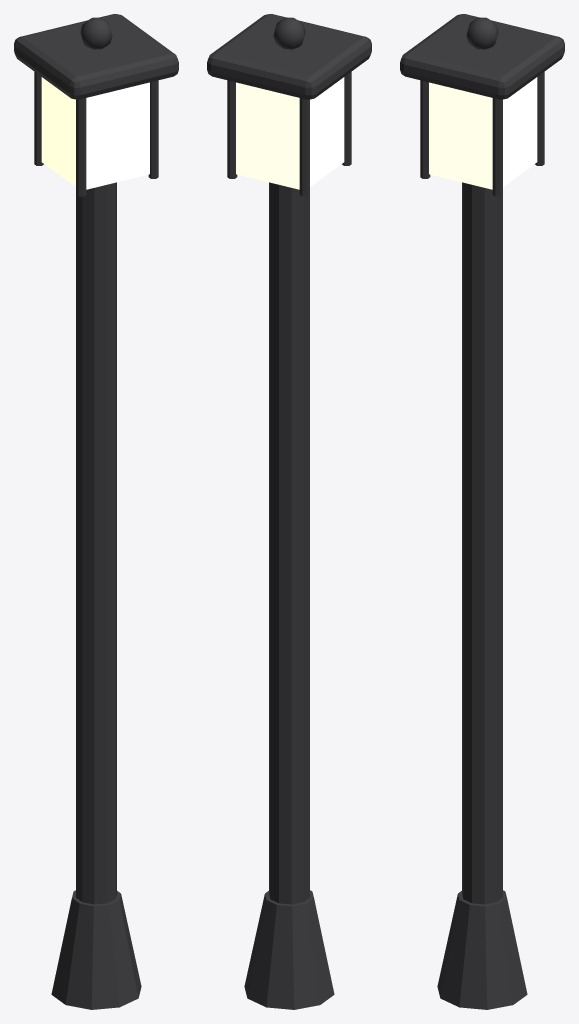
Rendered from LanternPost.glb.
3 renders of one model, left to right at view 1: azimuth 30°, elevation 25°; view 2: azimuth 150°, elevation 25°; view 3: azimuth 330°, elevation 25°, orthographic.
Visible parts, largest first — view 1: LanternPost; view 2: LanternPost; view 3: LanternPost.
Part boxes in pixels (x1=…): LanternPost: x1=14, y1=14, x2=178, y2=1009; LanternPost: x1=207, y1=14, x2=371, y2=1009; LanternPost: x1=400, y1=14, x2=564, y2=1009.
Bounding box in the file's own units: 0.3 × 2.56 × 0.3.
